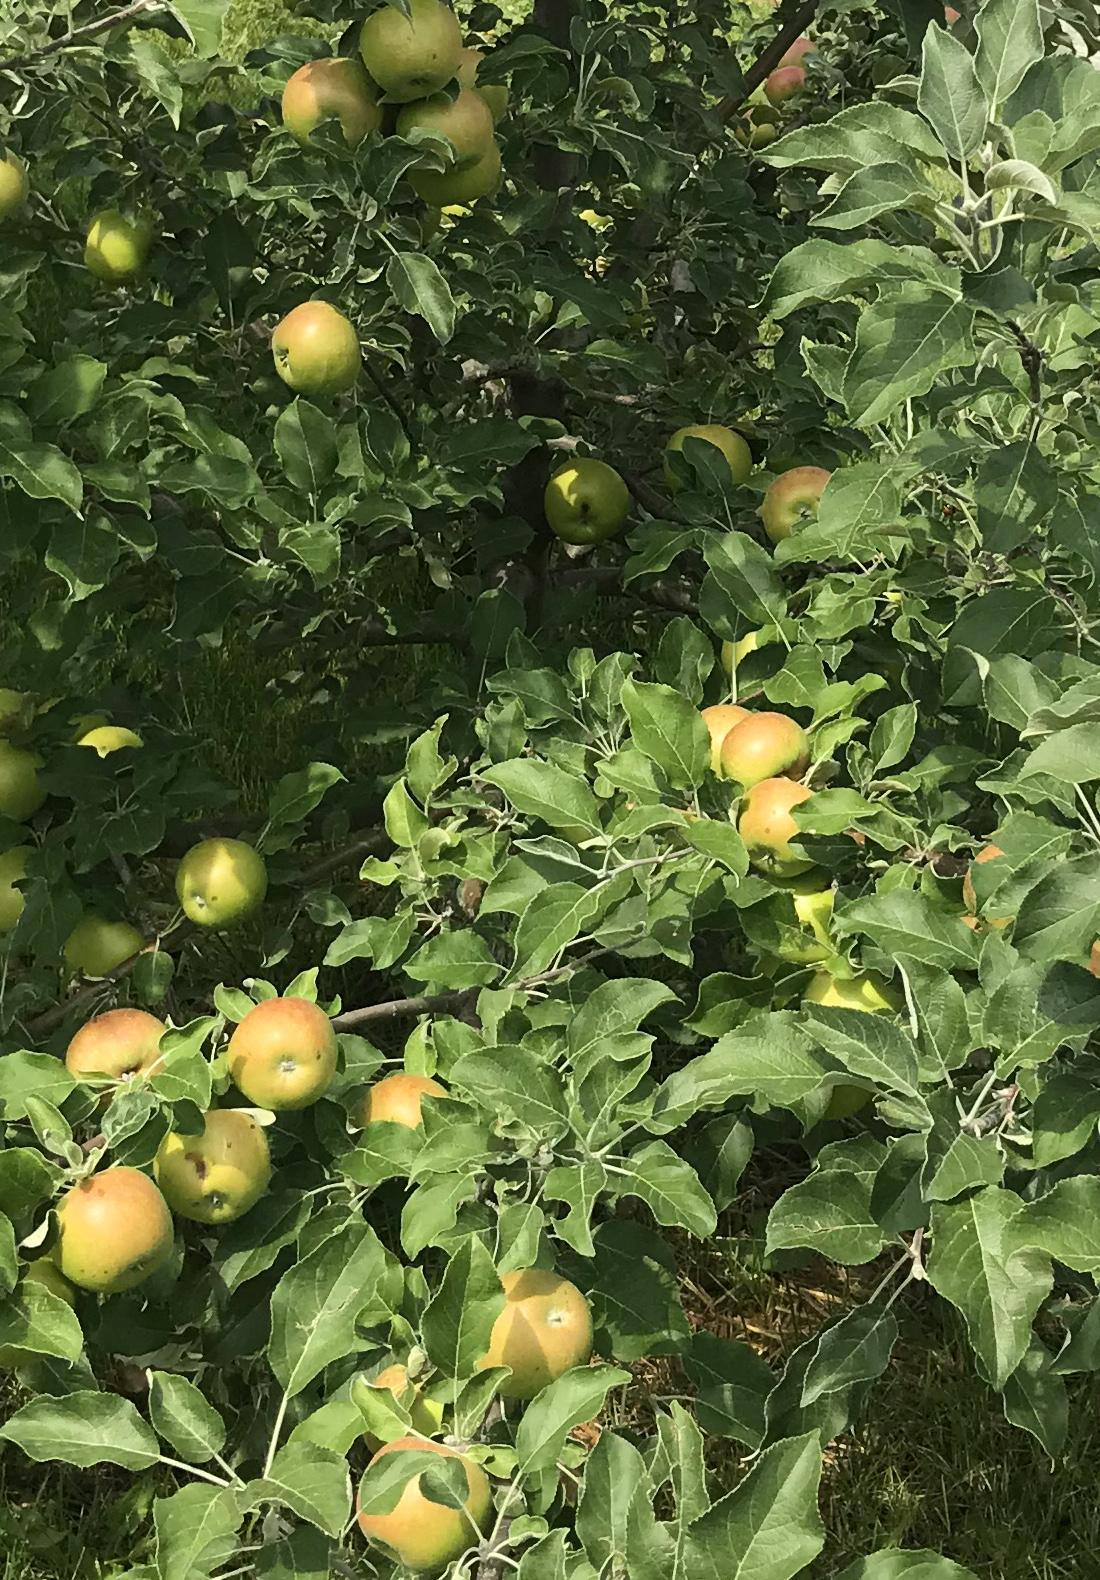apple: (351, 1438, 498, 1576), (55, 1171, 173, 1297), (159, 1111, 274, 1228), (226, 997, 336, 1111), (488, 1273, 591, 1393), (349, 2, 464, 103), (280, 56, 383, 149), (267, 304, 359, 403), (172, 840, 267, 934), (737, 779, 823, 880), (542, 456, 630, 547), (391, 91, 494, 170), (67, 1009, 172, 1084), (715, 712, 805, 792), (668, 424, 757, 499), (64, 909, 145, 986), (758, 468, 833, 547), (366, 1075, 446, 1135), (83, 213, 151, 281)
